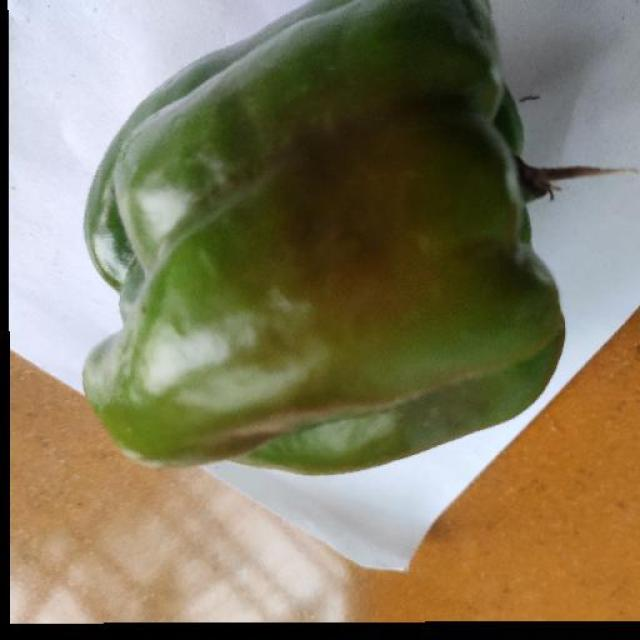Stale_Capsicum: (111, 36, 543, 444)
